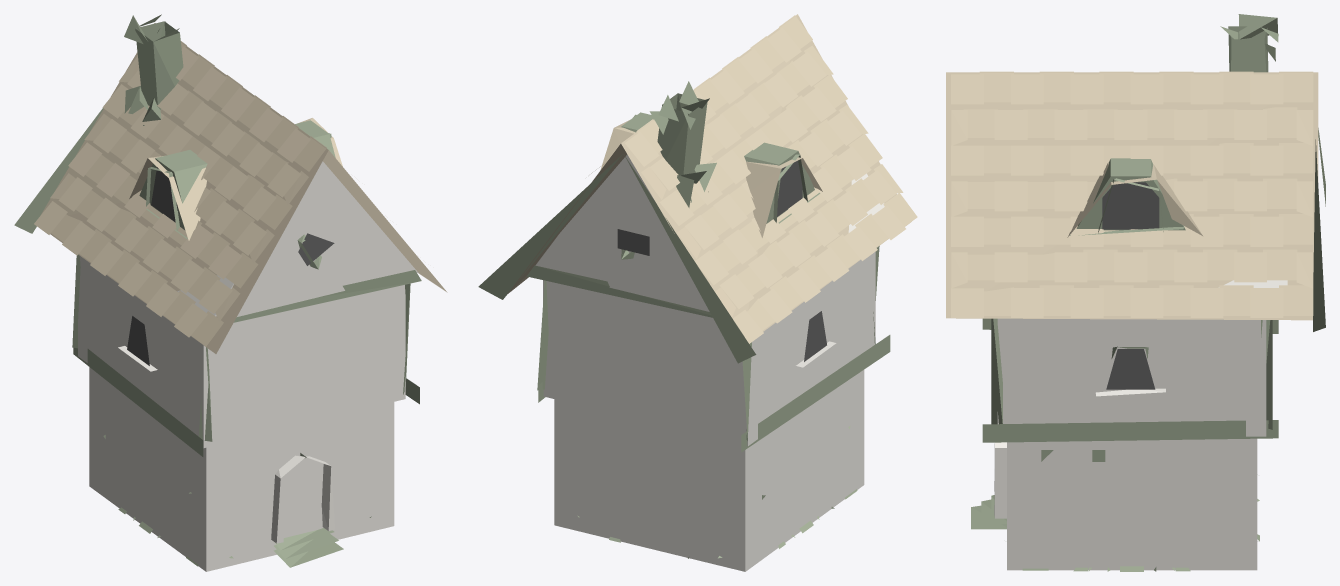
The model's file is hut-a-CfxcMY66.glb.
3 renders of one model, left to right at view 1: azimuth 30°, elevation 25°; view 2: azimuth 150°, elevation 25°; view 3: azimuth 270°, elevation 25°, orthographic. The views are drawn at different scales.
Visible parts, largest first — view 1: House_1_Cube.145; view 2: House_1_Cube.145; view 3: House_1_Cube.145.
Boxes of the visible parts, x1=… form: House_1_Cube.145: x1=14, y1=14, x2=447, y2=571; House_1_Cube.145: x1=478, y1=14, x2=917, y2=571; House_1_Cube.145: x1=946, y1=14, x2=1325, y2=571.
Bounding box in the file's own units: 2.14 × 3.39 × 2.41.
